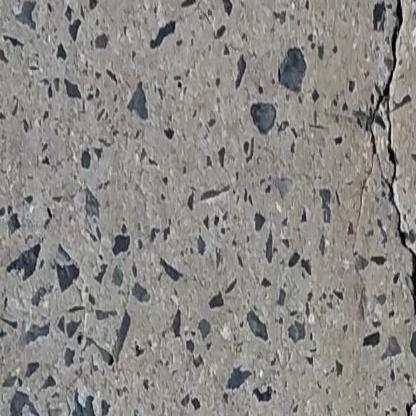Cracks: (367, 0, 416, 416)
